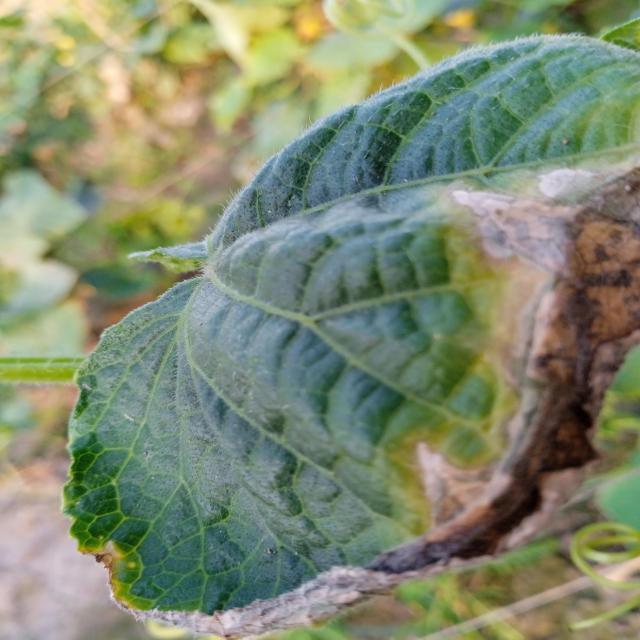cucumber_gummy: (51, 19, 640, 640)
